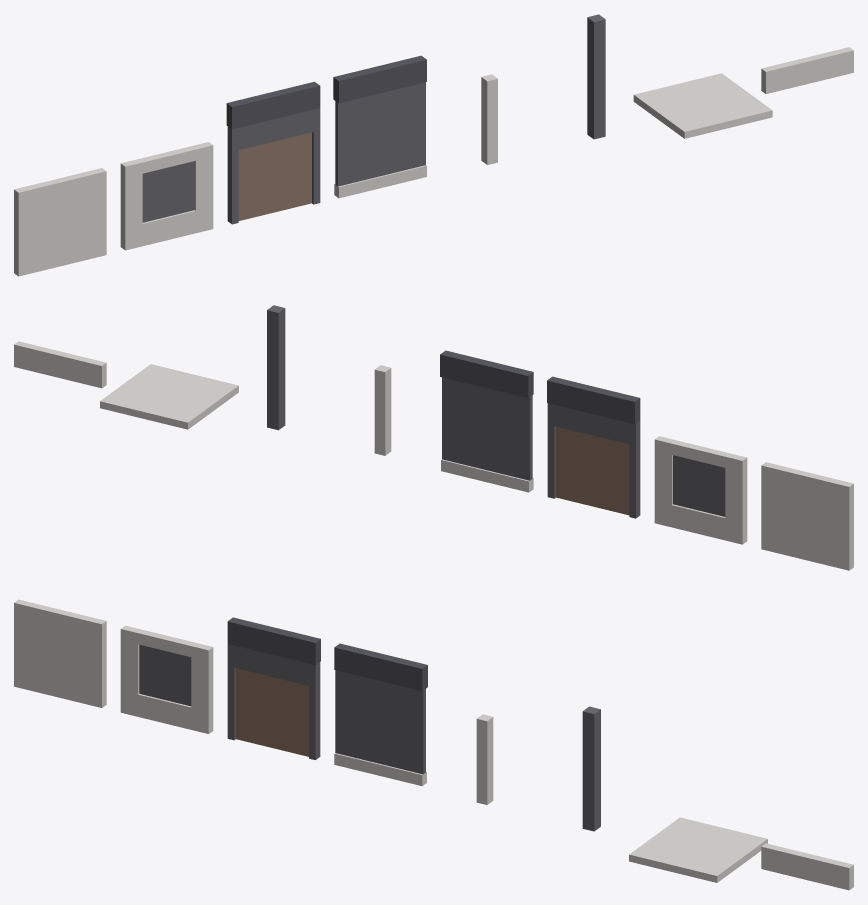
File: building_kit.glb
The picture shows the model from 3 angles, top to bottom: view 1: azimuth 30°, elevation 25°; view 2: azimuth 150°, elevation 25°; view 3: azimuth 330°, elevation 25°; orthographic projection.
Visible parts, largest first — view 1: Shop_Door, Shop_Window, Wall_Window, Wall_Solid, Floor_Slab, Roof_Trim, Pillar_Corner_Ground, Pillar_Corner; view 2: Shop_Door, Shop_Window, Wall_Window, Wall_Solid, Floor_Slab, Roof_Trim, Pillar_Corner_Ground, Pillar_Corner; view 3: Shop_Door, Shop_Window, Wall_Window, Wall_Solid, Floor_Slab, Roof_Trim, Pillar_Corner_Ground, Pillar_Corner.
Part boxes in pixels (x1,y1,x2,y2): Shop_Door: (226, 81, 320, 224); Shop_Window: (333, 55, 426, 198); Wall_Window: (120, 142, 213, 250); Wall_Solid: (14, 168, 106, 276); Floor_Slab: (633, 73, 772, 138); Roof_Trim: (761, 47, 853, 93); Pillar_Corner_Ground: (587, 14, 605, 139); Pillar_Corner: (481, 74, 497, 164); Shop_Door: (547, 376, 640, 518); Shop_Window: (440, 350, 533, 492); Wall_Window: (654, 436, 747, 544); Wall_Solid: (761, 462, 853, 570); Floor_Slab: (100, 364, 238, 429); Roof_Trim: (14, 341, 106, 388); Pillar_Corner_Ground: (267, 305, 285, 430); Pillar_Corner: (374, 365, 391, 455); Shop_Door: (227, 617, 320, 759); Shop_Window: (334, 643, 427, 786); Wall_Window: (120, 625, 213, 733); Wall_Solid: (14, 599, 106, 707); Floor_Slab: (629, 817, 767, 882); Roof_Trim: (761, 843, 853, 890); Pillar_Corner_Ground: (582, 706, 600, 831); Pillar_Corner: (476, 714, 493, 804).
Size of the model in its own units: 31.3 by 4.2 by 3.3.
